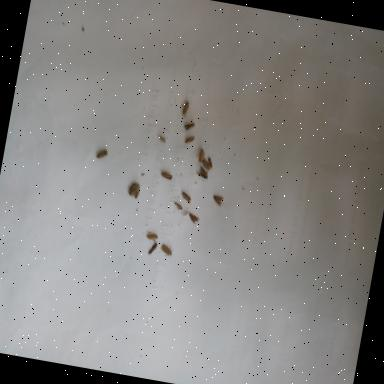pbw: (160, 243, 174, 257), (179, 190, 193, 204), (212, 194, 225, 208), (197, 165, 210, 179), (188, 212, 201, 226), (160, 170, 174, 182), (96, 148, 109, 160), (146, 231, 160, 242), (184, 120, 196, 132), (148, 242, 158, 256), (198, 148, 208, 162), (202, 158, 213, 170), (182, 100, 190, 116), (173, 201, 184, 210), (184, 135, 194, 144), (158, 135, 167, 142)
